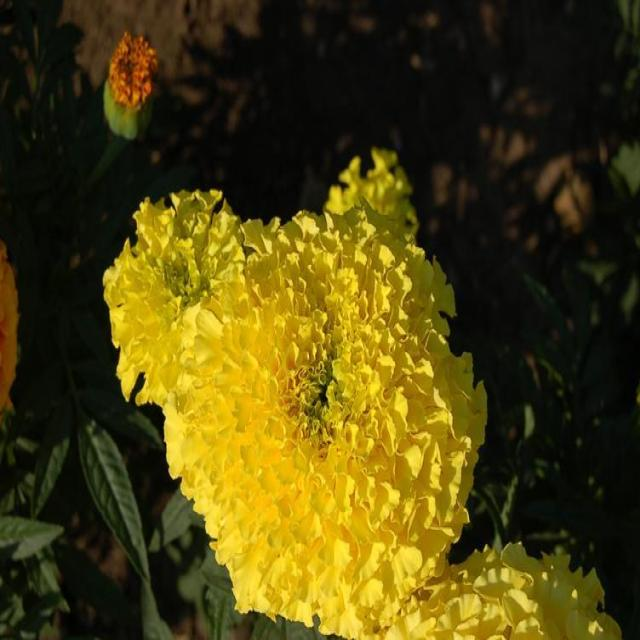marigold: (71, 24, 610, 640)
